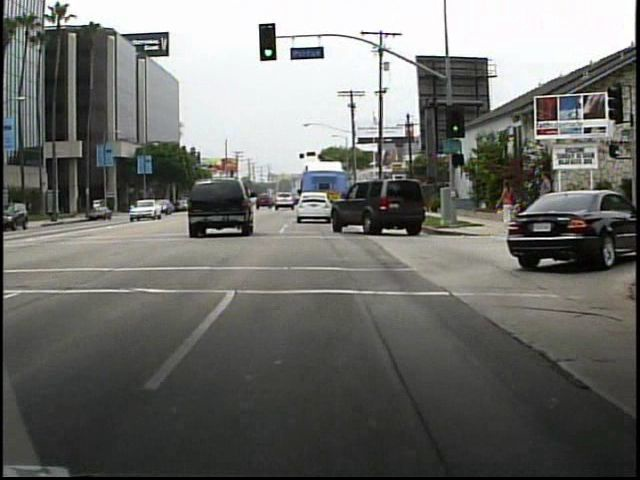person: (489, 175, 523, 239), (531, 169, 558, 228)
